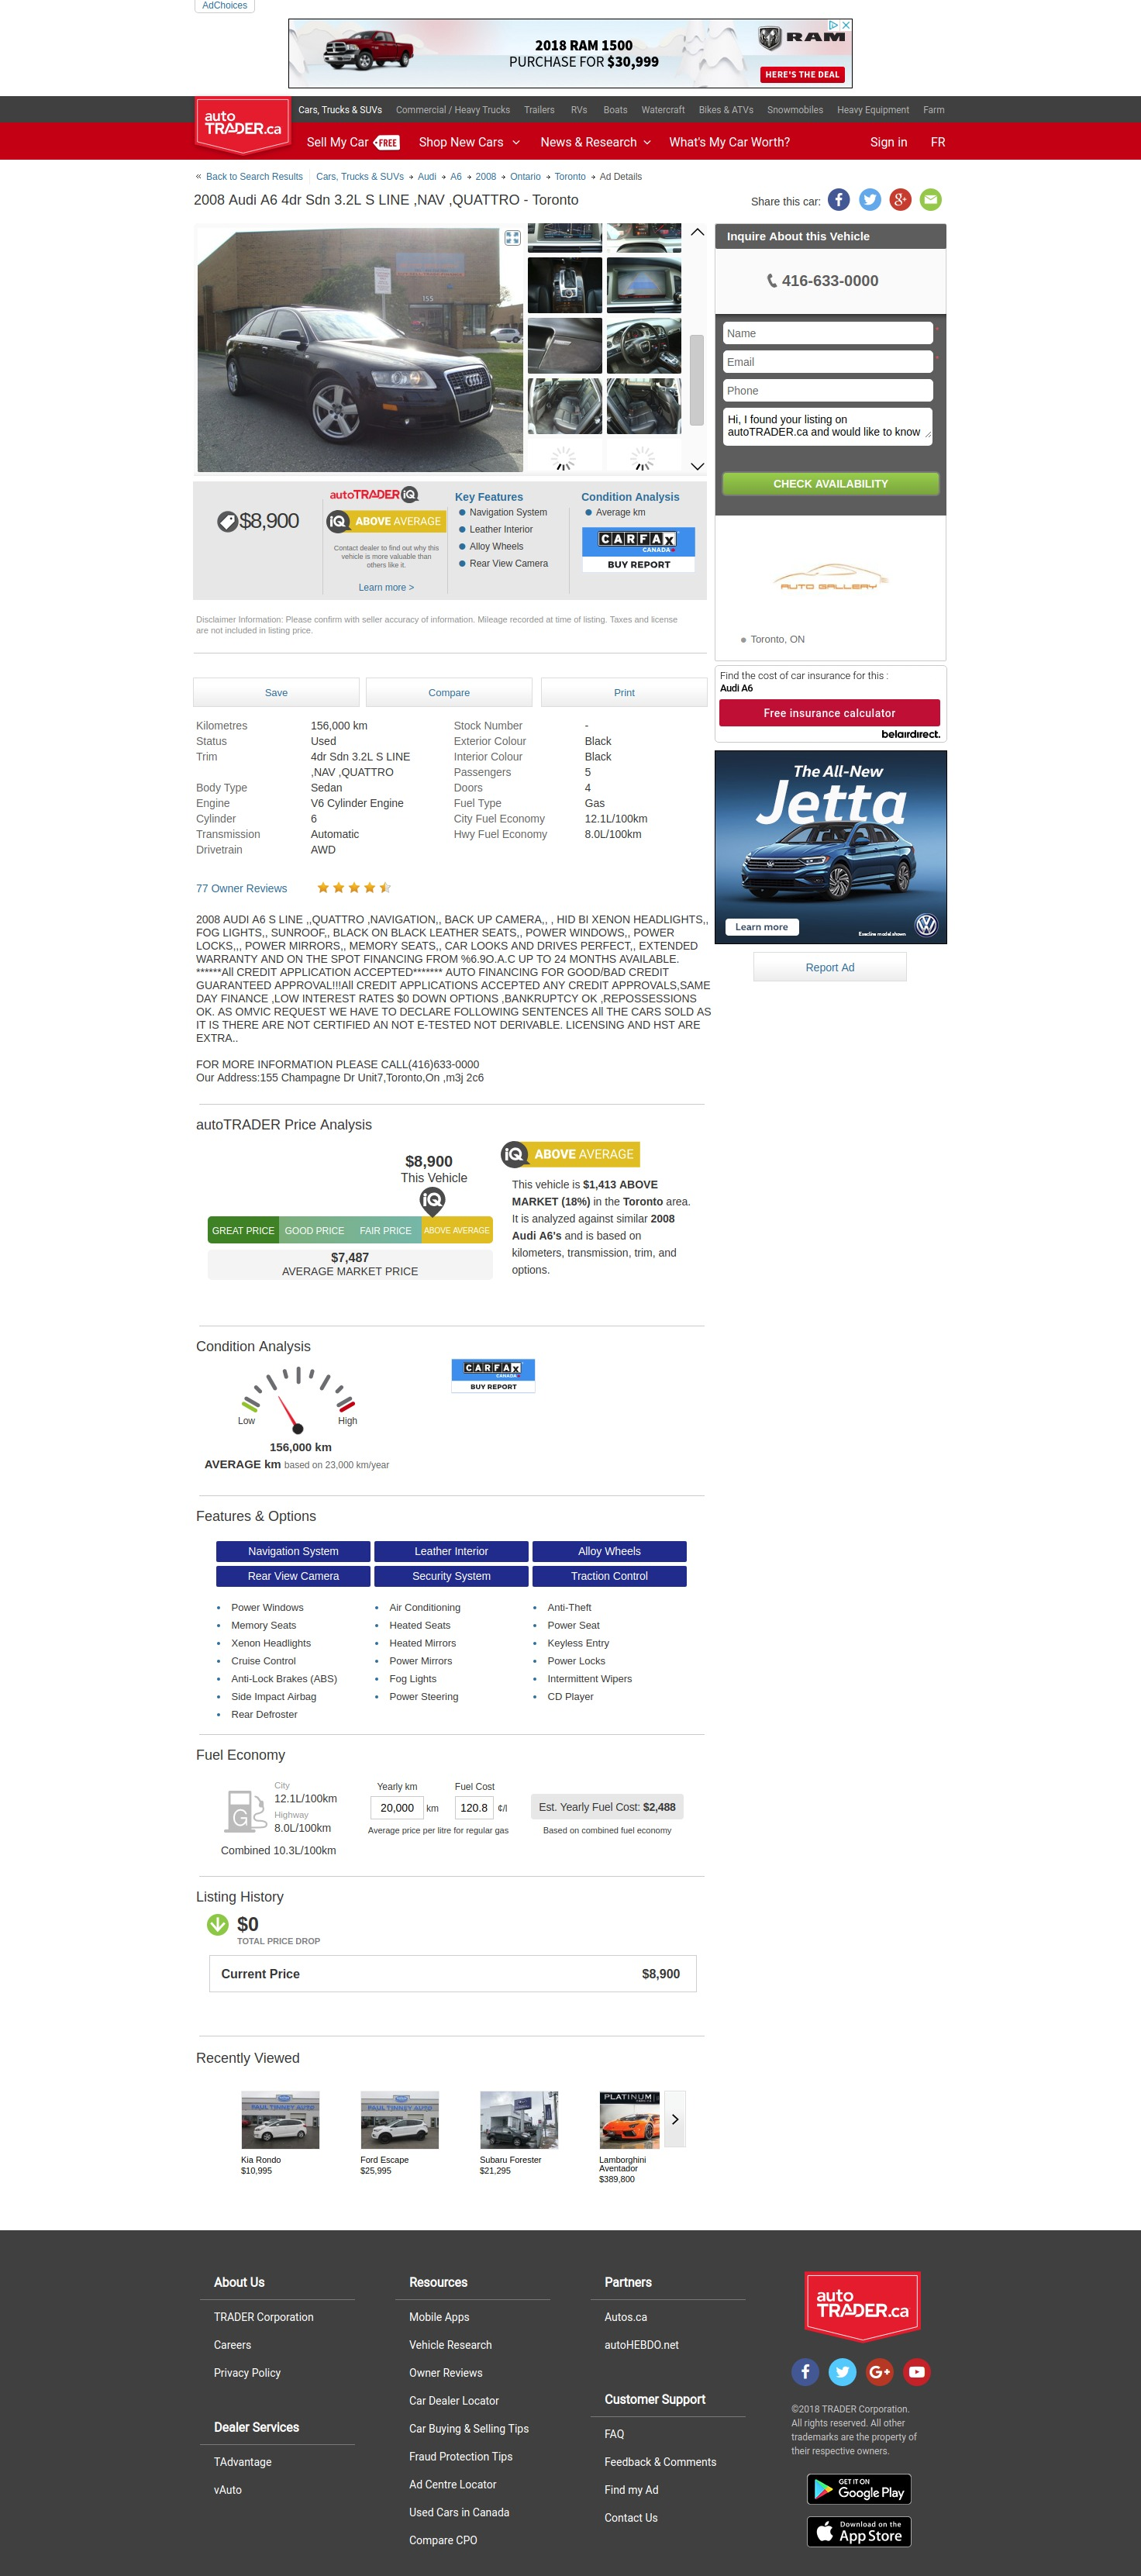car: (690, 460, 706, 473)
